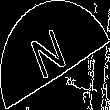N_SE: (32, 23, 78, 87)
